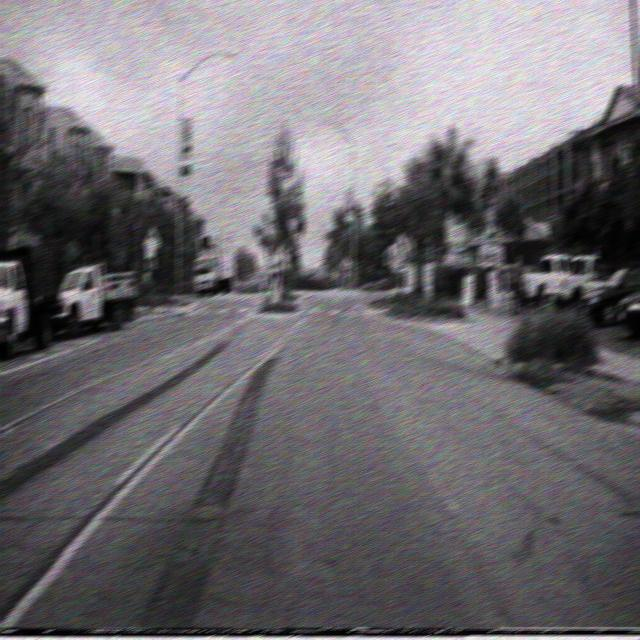pedestrianCrossing: (392, 230, 409, 262)
yield: (286, 216, 300, 237)
